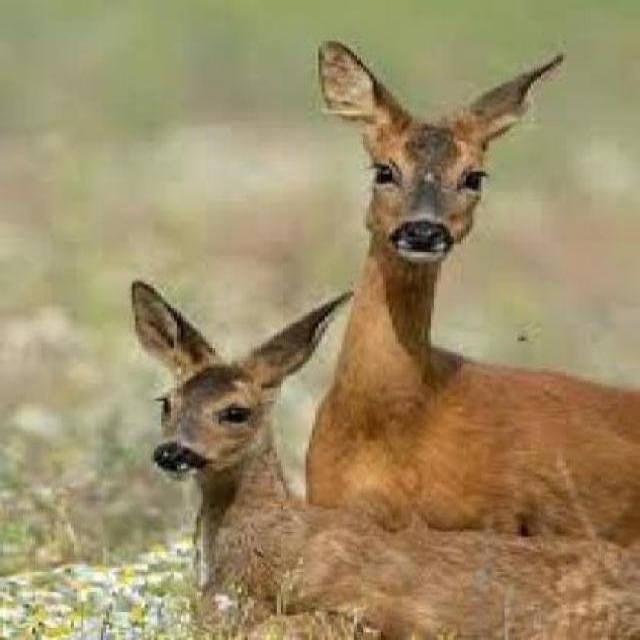deer: (288, 24, 637, 527), (62, 254, 364, 610)
